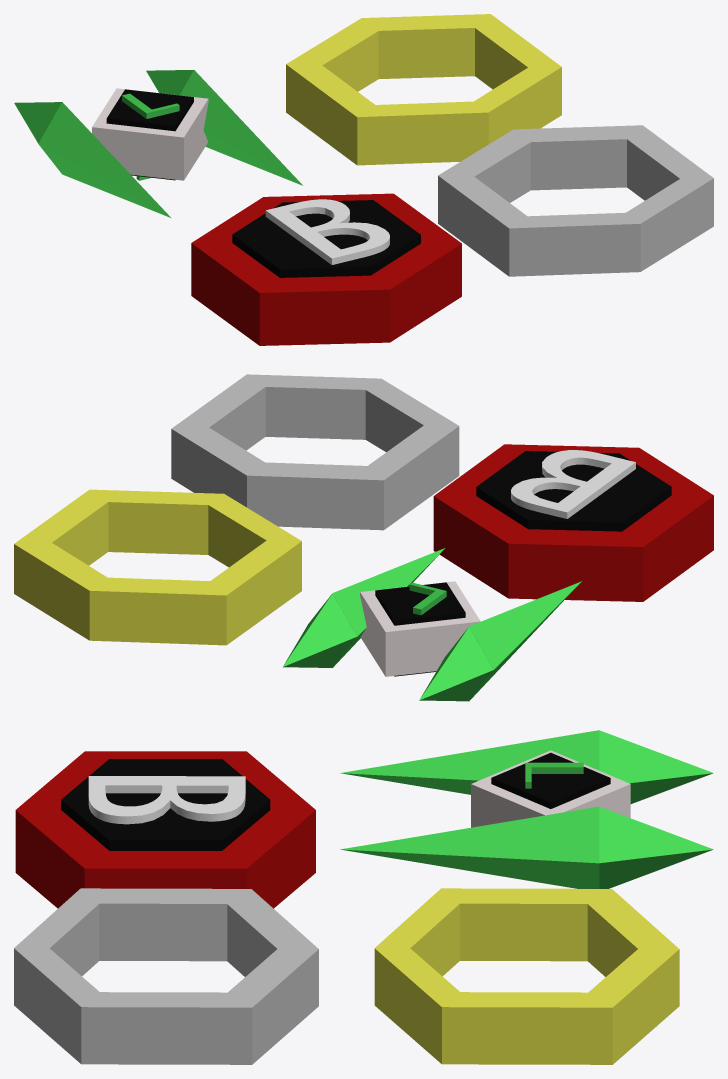
Rendered from PowerupModels.fbx.
The picture shows the model from 3 angles, top to bottom: view 1: azimuth 30°, elevation 25°; view 2: azimuth 150°, elevation 25°; view 3: azimuth 270°, elevation 25°; orthographic projection. The views are drawn at different scales.
Visible parts, largest first — view 1: polySurface3, pCube7, pCube8, pCube11; view 2: polySurface3, pCube8, pCube7, pCube11; view 3: pCube8, pCube7, polySurface3, pCube11.
Boxes of the visible parts, x1,y1,x2,y2 form: polySurface3: [191, 193, 461, 345]; pCube7: [438, 125, 713, 276]; pCube8: [286, 14, 561, 165]; pCube11: [14, 70, 302, 217]; polySurface3: [433, 444, 713, 601]; pCube8: [14, 489, 301, 645]; pCube7: [171, 374, 459, 530]; pCube11: [283, 548, 581, 701]; pCube8: [374, 888, 679, 1064]; pCube7: [14, 888, 318, 1064]; polySurface3: [15, 751, 315, 908]; pCube11: [340, 730, 713, 888].
Bounding box in the file's own units: 9.87 × 1.9 × 11.02.
